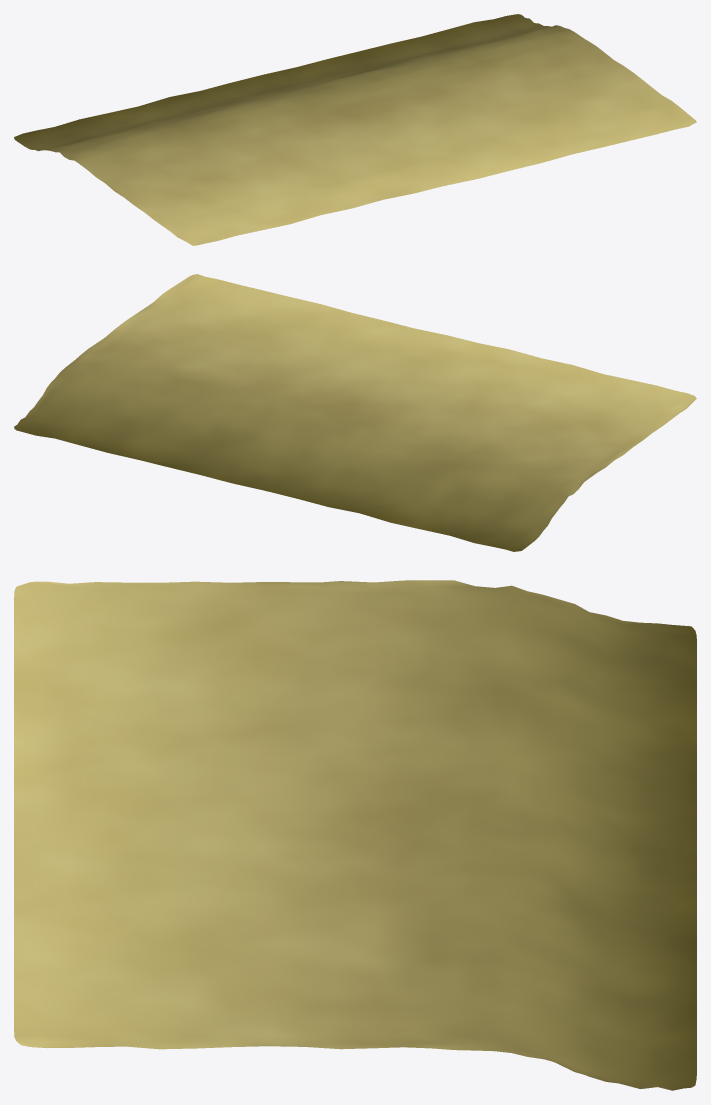
Rendered from Pasir.fbx.
The picture shows the model from 3 angles, top to bottom: view 1: azimuth 30°, elevation 25°; view 2: azimuth 150°, elevation 25°; view 3: azimuth 270°, elevation 25°; orthographic projection. The views are drawn at different scales.
Visible parts, largest first — view 1: Plane; view 2: Plane; view 3: Plane.
Boxes of the visible parts, box(x1,y1,x2,y2) form: Plane: box(14, 14, 696, 245); Plane: box(14, 274, 696, 551); Plane: box(14, 580, 696, 1090).
Bounding box in the file's own units: 4334 × 206 × 2684.
1 material, 1 textured.
